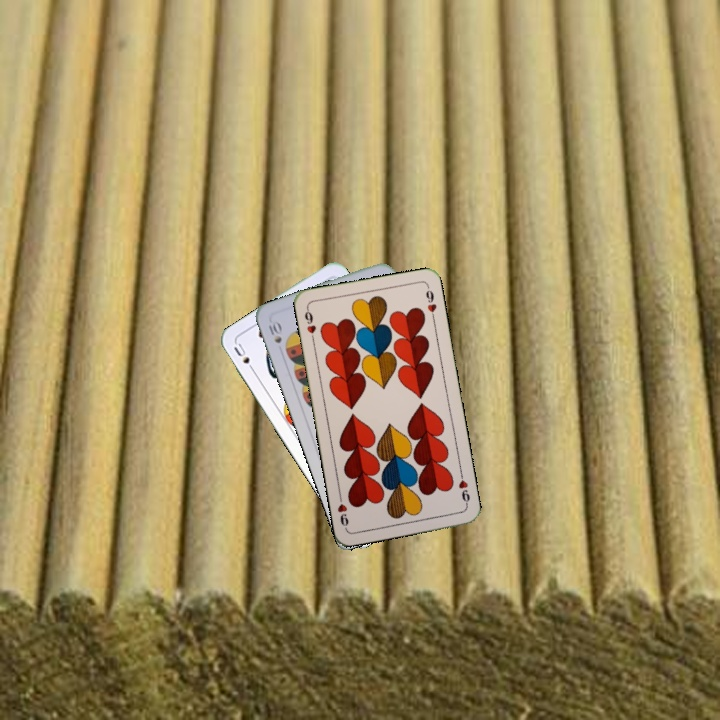H9: (454, 468, 472, 509), (301, 304, 319, 344)
S10: (264, 317, 284, 346)
SU: (230, 339, 258, 376)
